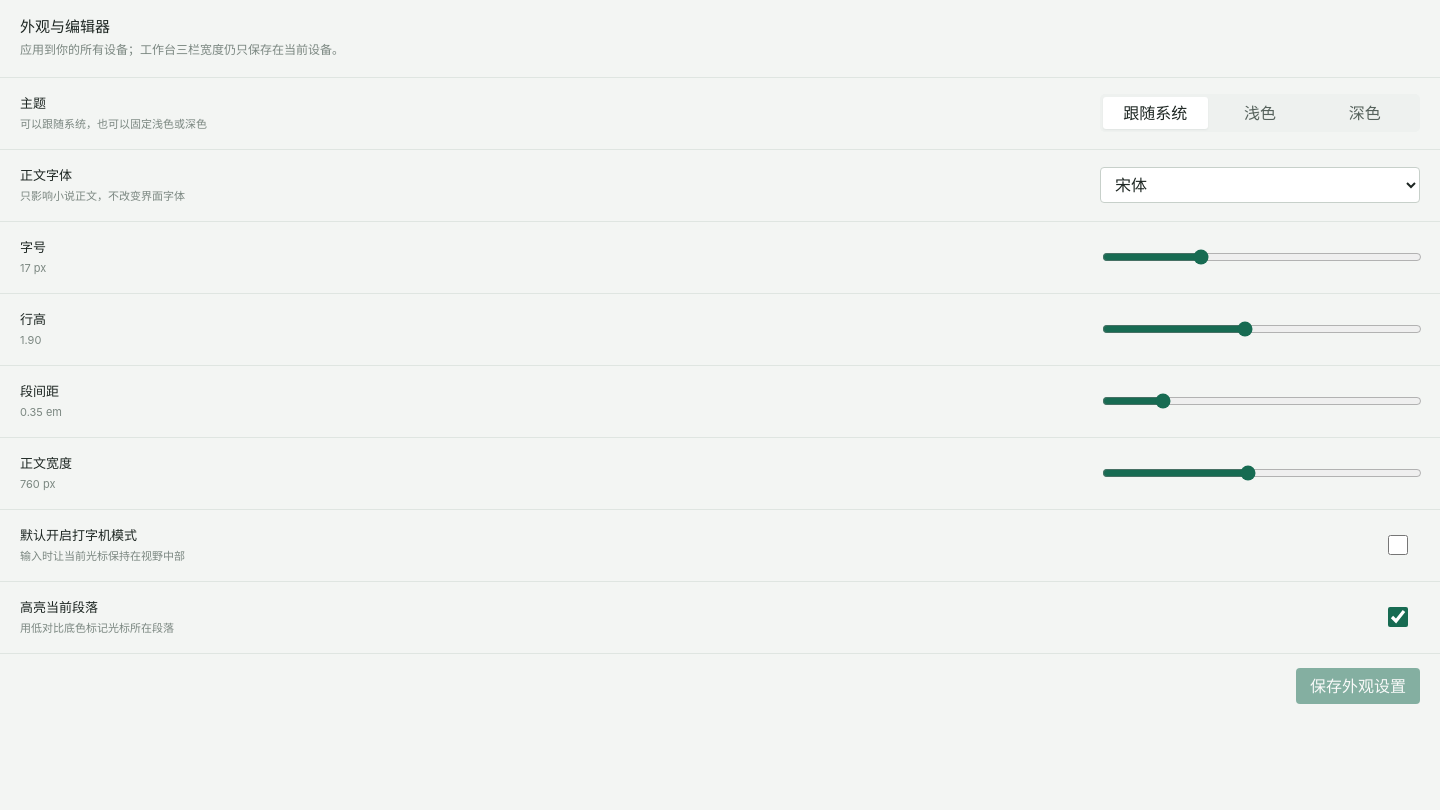
Scenario: ProfileAppearancePanel › keeps a failed save visible in the form action area
Set the slider named "正文宽度" to "800" at (1276, 473), box top-left (1102, 465), bottom-right (1422, 481)
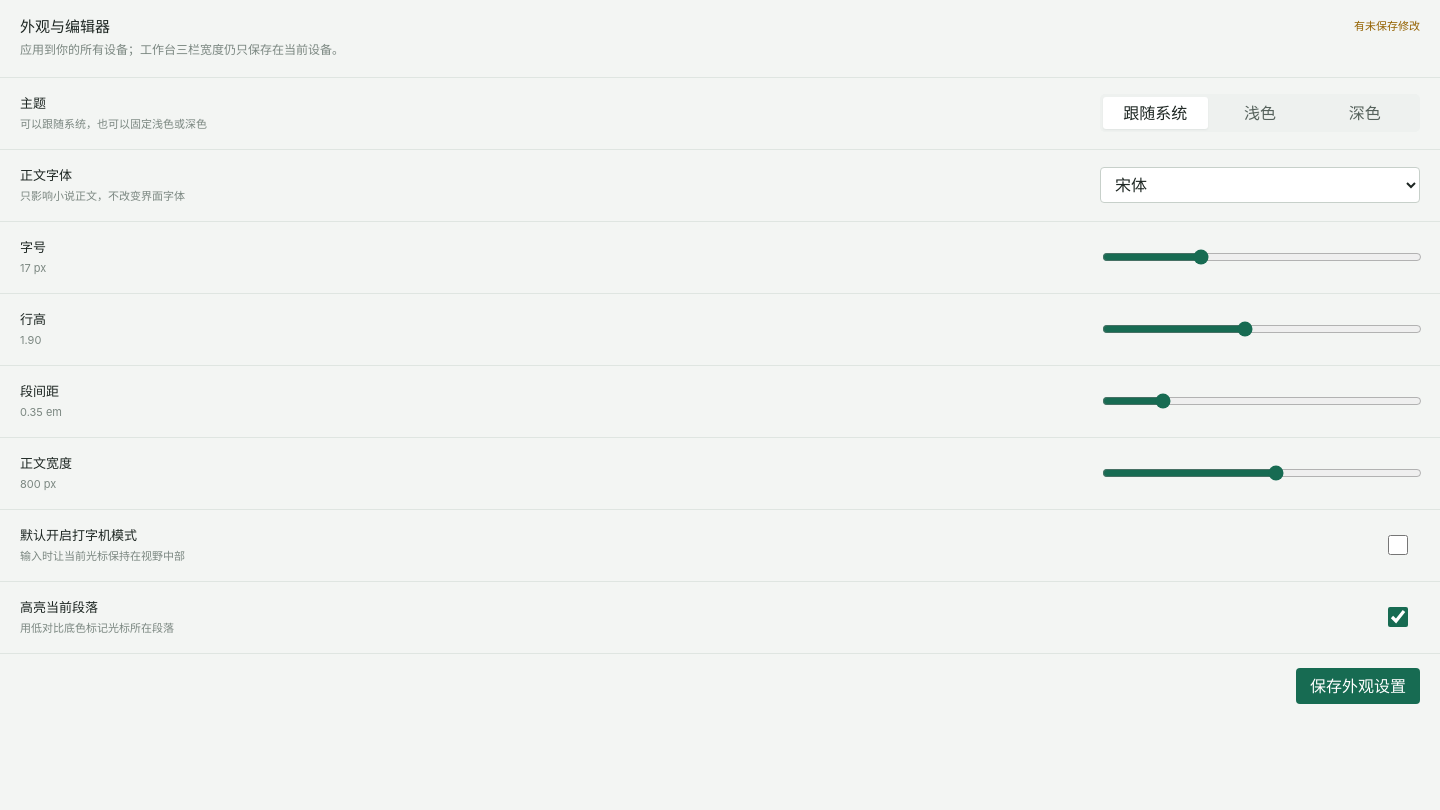
Submit the form from the submit button, box top-left (1296, 668), bottom-right (1420, 704)
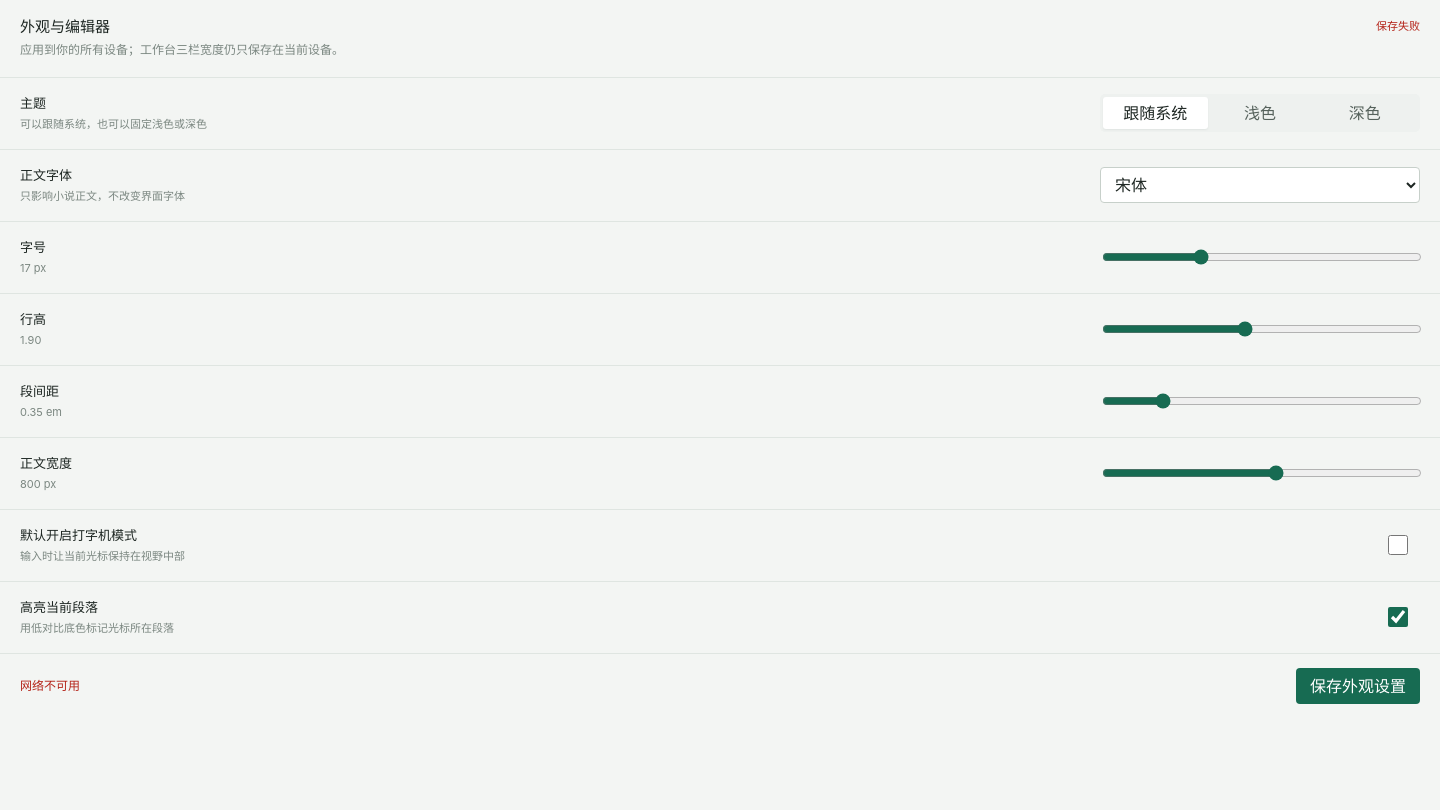
Expected: the message "网络不可用" is shown, top-left (20, 677), bottom-right (80, 695)
Expected: the text "保存失败" is shown, top-left (1376, 18), bottom-right (1420, 34)
